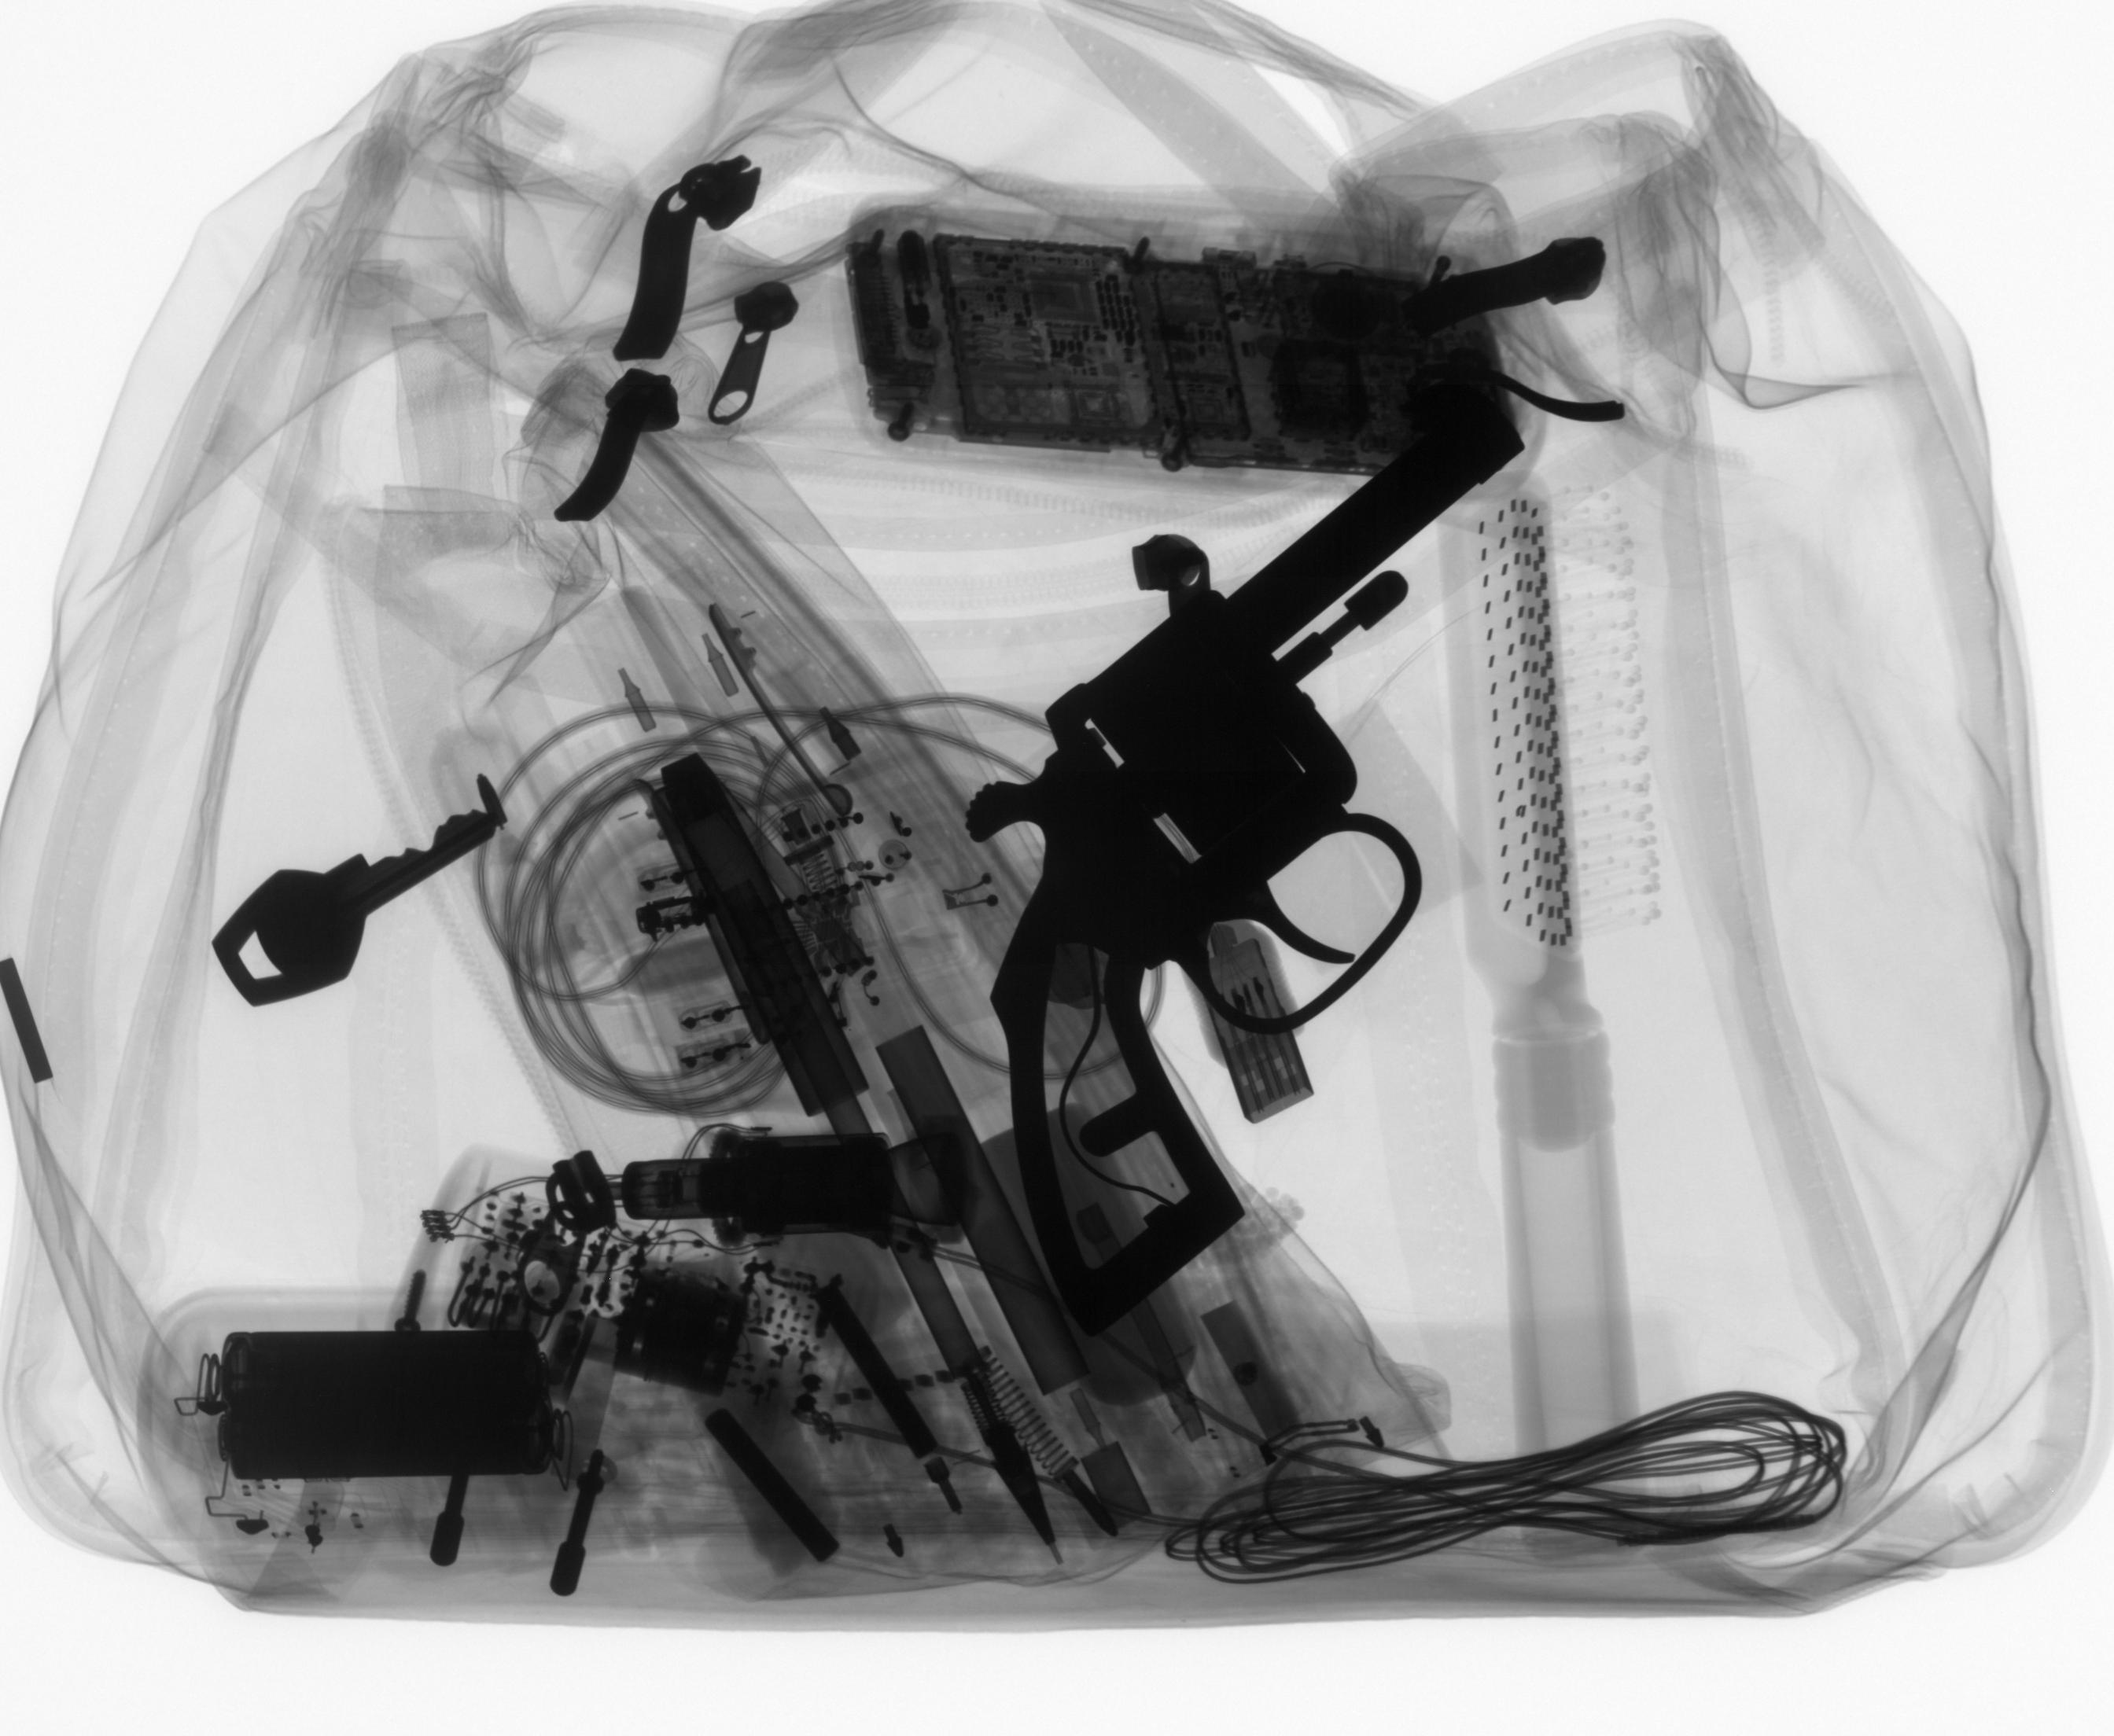Handgun: (952, 385, 1538, 1345)
